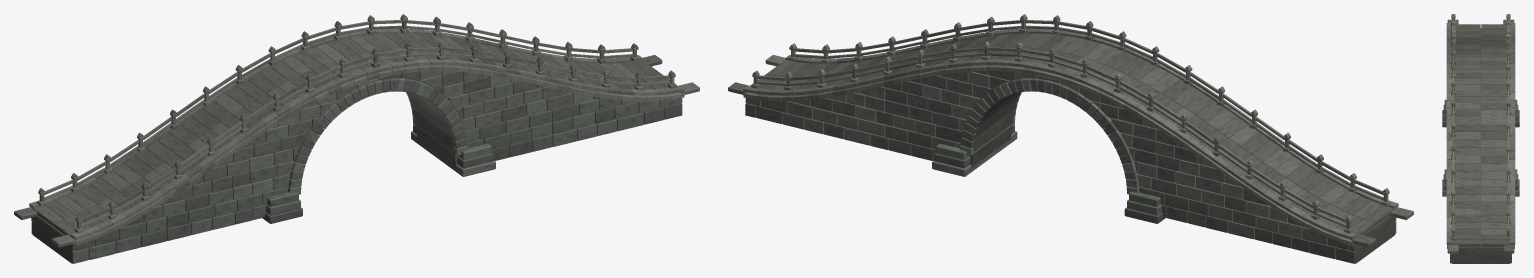
File: bridge_stone_lod0.glb
3 views of the same model, side by side, from view 1: azimuth 30°, elevation 25°; view 2: azimuth 150°, elevation 25°; view 3: azimuth 270°, elevation 25° (orthographic). The views are drawn at different scales.
Visible parts, largest first — view 1: bridge_stone_L0__SpandrelMasonry, bridge_stone_L0__DeckPaving, bridge_stone_L0__DeckCornice, bridge_stone_L0__StoneHandrails, bridge_stone_L0__StoneRailPosts, bridge_stone_L0__ArchVoussoirs, bridge_stone_L0__BridgeFootings, bridge_stone_L0__MasonryCore; view 2: bridge_stone_L0__SpandrelMasonry, bridge_stone_L0__DeckPaving, bridge_stone_L0__DeckCornice, bridge_stone_L0__StoneHandrails, bridge_stone_L0__StoneRailPosts, bridge_stone_L0__ArchVoussoirs, bridge_stone_L0__BridgeFootings, bridge_stone_L0__MasonryCore; view 3: bridge_stone_L0__DeckPaving, bridge_stone_L0__DeckCornice, bridge_stone_L0__StoneRailPosts, bridge_stone_L0__MasonryCore, bridge_stone_L0__StoneHandrails, bridge_stone_L0__BridgeFootings.
Part boxes in pixels (x1,y1,x2,y2): bridge_stone_L0__SpandrelMasonry: (31, 71, 682, 263); bridge_stone_L0__DeckPaving: (32, 33, 677, 237); bridge_stone_L0__DeckCornice: (29, 28, 684, 245); bridge_stone_L0__StoneHandrails: (44, 20, 670, 227); bridge_stone_L0__StoneRailPosts: (37, 14, 676, 233); bridge_stone_L0__ArchVoussoirs: (288, 78, 467, 194); bridge_stone_L0__BridgeFootings: (14, 55, 699, 247); bridge_stone_L0__MasonryCore: (32, 79, 458, 263); bridge_stone_L0__SpandrelMasonry: (745, 71, 1396, 263); bridge_stone_L0__DeckPaving: (750, 33, 1395, 237); bridge_stone_L0__DeckCornice: (743, 28, 1398, 245); bridge_stone_L0__StoneHandrails: (757, 20, 1383, 227); bridge_stone_L0__StoneRailPosts: (751, 14, 1390, 233); bridge_stone_L0__ArchVoussoirs: (960, 78, 1139, 194); bridge_stone_L0__BridgeFootings: (728, 55, 1413, 247); bridge_stone_L0__MasonryCore: (969, 80, 1394, 263); bridge_stone_L0__DeckPaving: (1451, 24, 1510, 246); bridge_stone_L0__DeckCornice: (1446, 23, 1515, 248); bridge_stone_L0__StoneRailPosts: (1451, 14, 1510, 240); bridge_stone_L0__MasonryCore: (1452, 28, 1509, 263); bridge_stone_L0__StoneHandrails: (1452, 18, 1509, 227); bridge_stone_L0__BridgeFootings: (1442, 19, 1519, 253).
Size of the model in its own units: 21.9 by 4.65 by 3.1.
3 materials, 3 textured.
